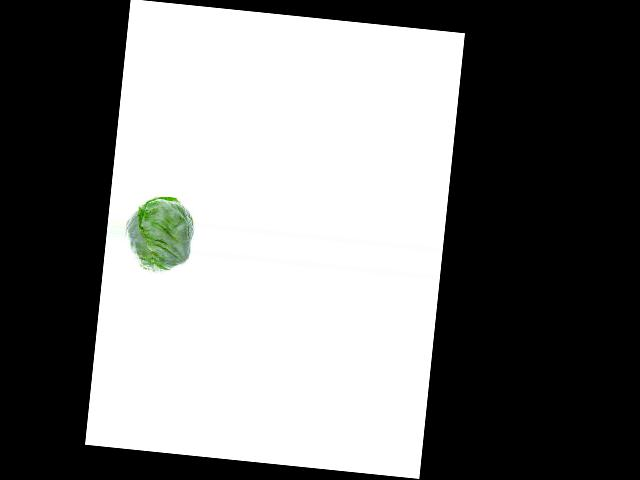lettuce: (123, 194, 193, 274)
